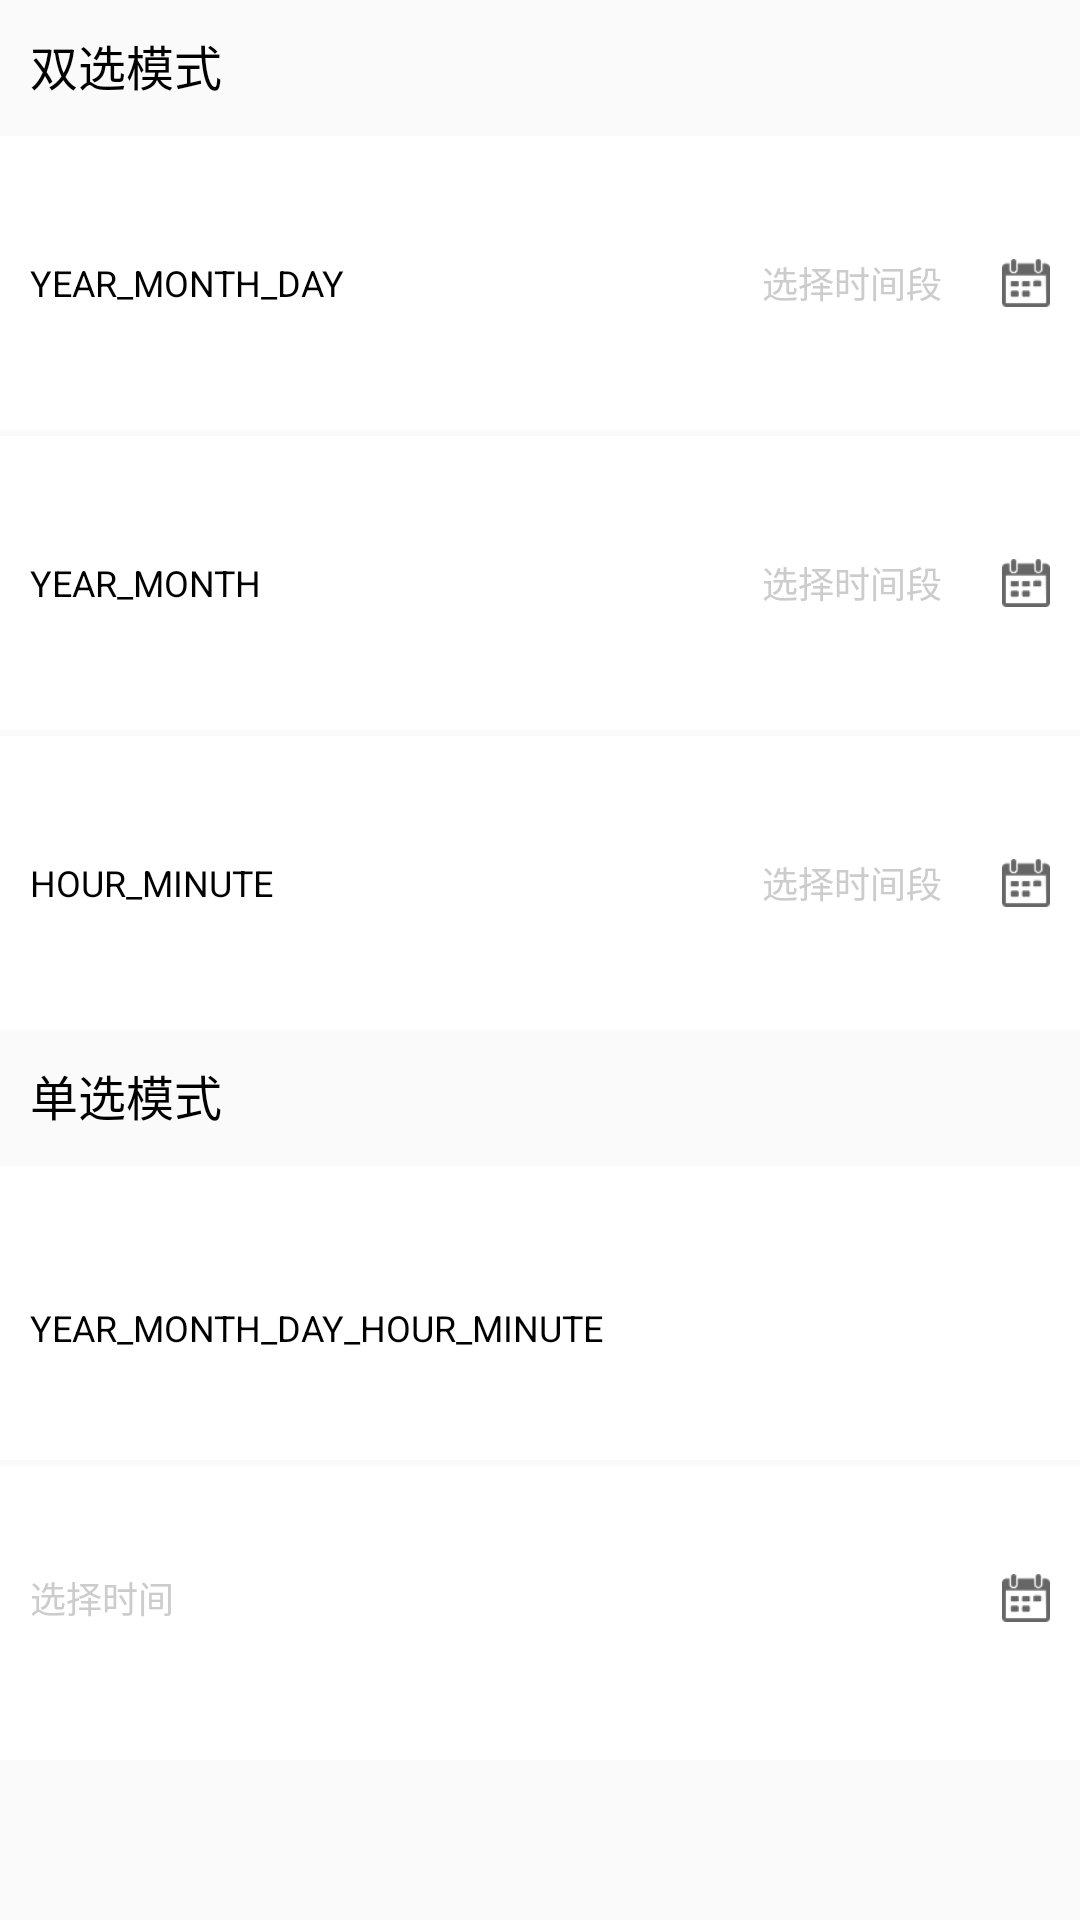

Locate icon controls on the screen. Image size 1080w x 1920h, boxes as (x1, y1, x2, y2).
date: (1002, 259, 1050, 307), (1002, 559, 1050, 607), (1002, 859, 1050, 907), (1002, 1574, 1050, 1622)
